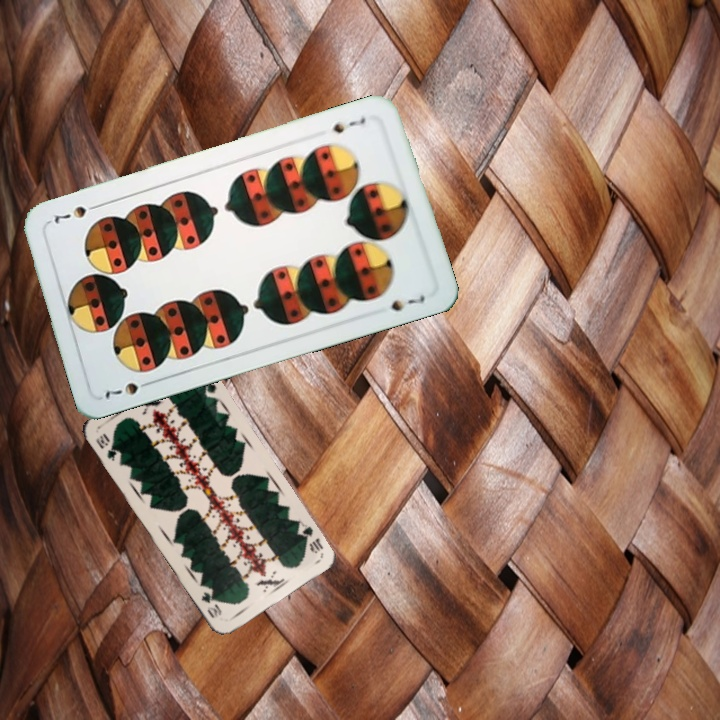G10: (293, 519, 326, 556), (92, 429, 119, 464)
S7: (100, 376, 157, 403), (329, 113, 368, 136)
